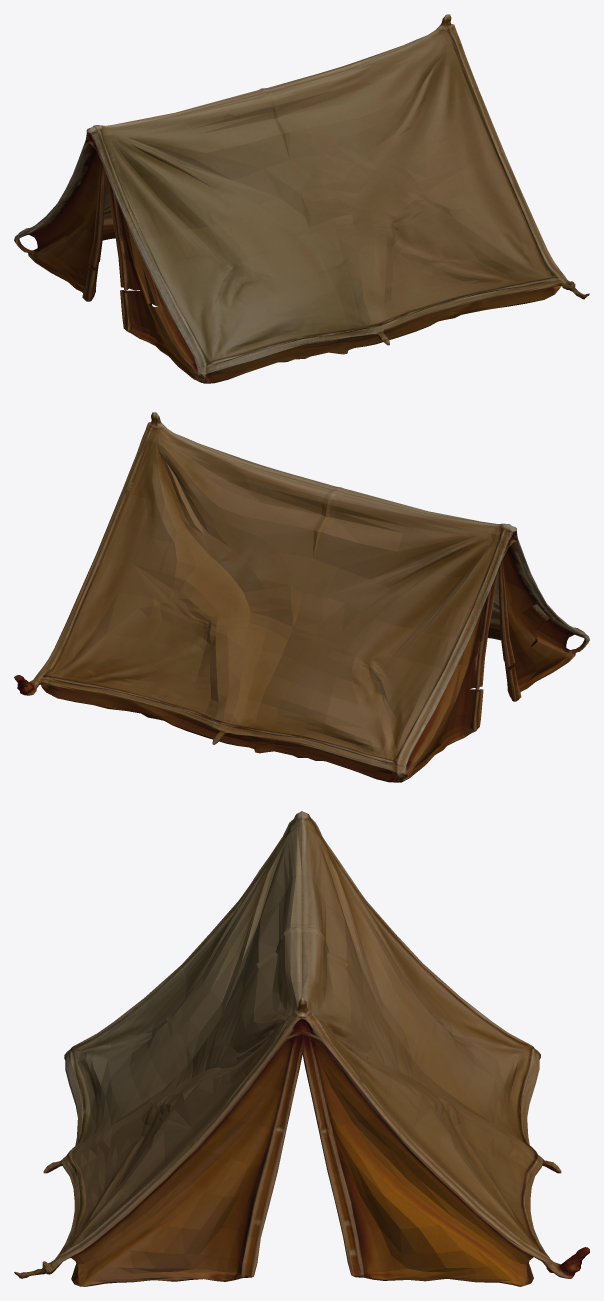
File: Carpa.glb
3 renders of one model, top to bottom at view 1: azimuth 30°, elevation 25°; view 2: azimuth 150°, elevation 25°; view 3: azimuth 270°, elevation 25°, orthographic. The views are drawn at different scales.
Visible parts, largest first — view 1: tripo_node_77b7b395-f907-4811-aded-e324605987da; view 2: tripo_node_77b7b395-f907-4811-aded-e324605987da; view 3: tripo_node_77b7b395-f907-4811-aded-e324605987da.
Part boxes in pixels (x1,y1,x2,y2): tripo_node_77b7b395-f907-4811-aded-e324605987da: (14, 14, 589, 383); tripo_node_77b7b395-f907-4811-aded-e324605987da: (14, 412, 589, 782); tripo_node_77b7b395-f907-4811-aded-e324605987da: (14, 811, 589, 1286).
Size of the model in its own units: 4.7 by 2.59 by 4.67.
1 material, 1 textured.
